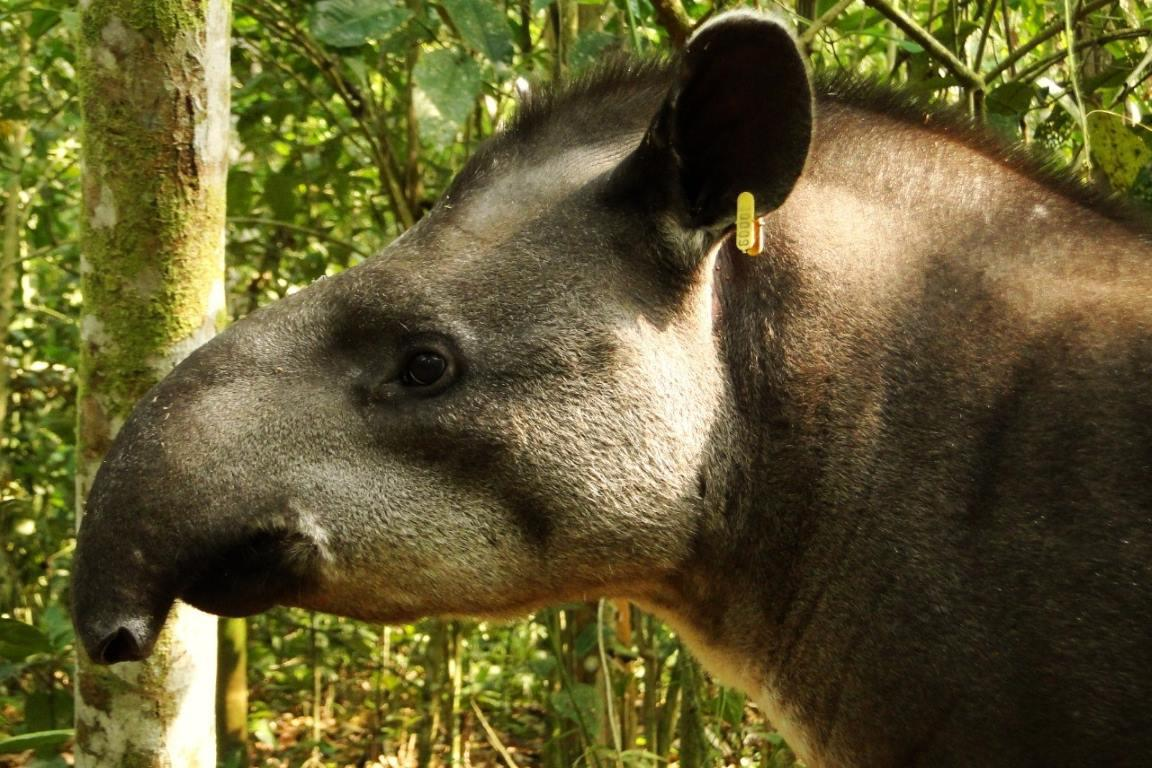Anta: (50, 22, 1149, 750)
